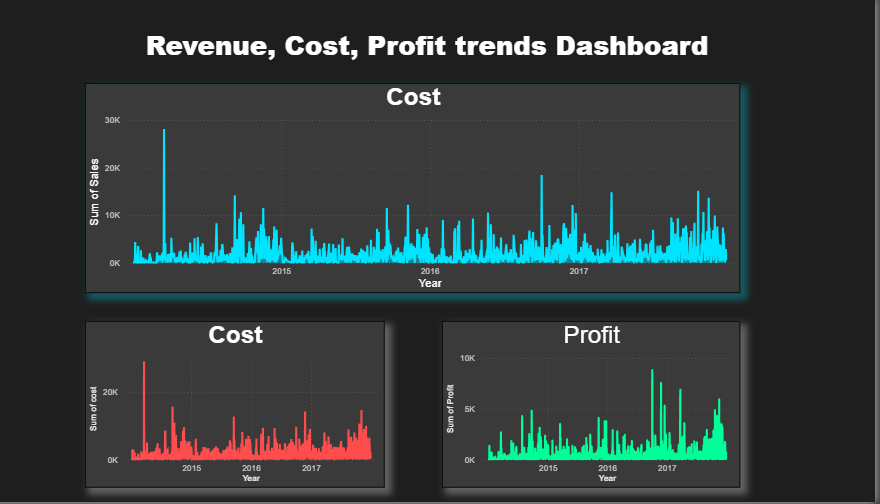

This screenshot's page, from the dashboard's own definition file:
{"tool":"powerbi","page":{"name":"Dashboard Revenue Cost Profit Trends","canvas":[1280,720],"ordinal":0},"visuals":[{"type":"lineChart","title":"Profit","fields":{"Y":["Sum(Sheet3.Profit)"],"Category":["Sheet3.Order Date.Variation.Date Hierarchy.Year","Sheet3.Order Date.Variation.Date Hierarchy.Quarter","Sheet3.Order Date.Variation.Date Hierarchy.Month","Sheet3.Order Date.Variation.Date Hierarchy.Day"]},"box":[662,462,426,238],"z":0},{"type":"lineChart","title":"Cost","fields":{"Y":["Sum(Sheet3.cost)"],"Category":["Sheet3.Order Date.Variation.Date Hierarchy.Year","Sheet3.Order Date.Variation.Date Hierarchy.Quarter","Sheet3.Order Date.Variation.Date Hierarchy.Month","Sheet3.Order Date.Variation.Date Hierarchy.Day"]},"box":[152,462,428,238],"z":1000},{"type":"textbox","box":[180,36,908,70],"z":2000},{"type":"lineChart","title":"Cost","fields":{"Y":["Sum(Sheet3.Sales)"],"Category":["Sheet3.Order Date.Variation.Date Hierarchy.Year","Sheet3.Order Date.Variation.Date Hierarchy.Quarter","Sheet3.Order Date.Variation.Date Hierarchy.Month","Sheet3.Order Date.Variation.Date Hierarchy.Day"]},"box":[152,122,936,300],"z":3000}]}

Visuals, with their boxes in screenshot pixels (x1, y1, x2, y2), scaled from the page's 1280x720 canvas onto the 880x504 screenshot:
"Profit" lineChart: pyautogui.locateOnScreen(455, 323, 748, 490)
"Cost" lineChart: pyautogui.locateOnScreen(104, 323, 399, 490)
textbox: pyautogui.locateOnScreen(124, 25, 748, 74)
"Cost" lineChart: pyautogui.locateOnScreen(104, 85, 748, 295)
